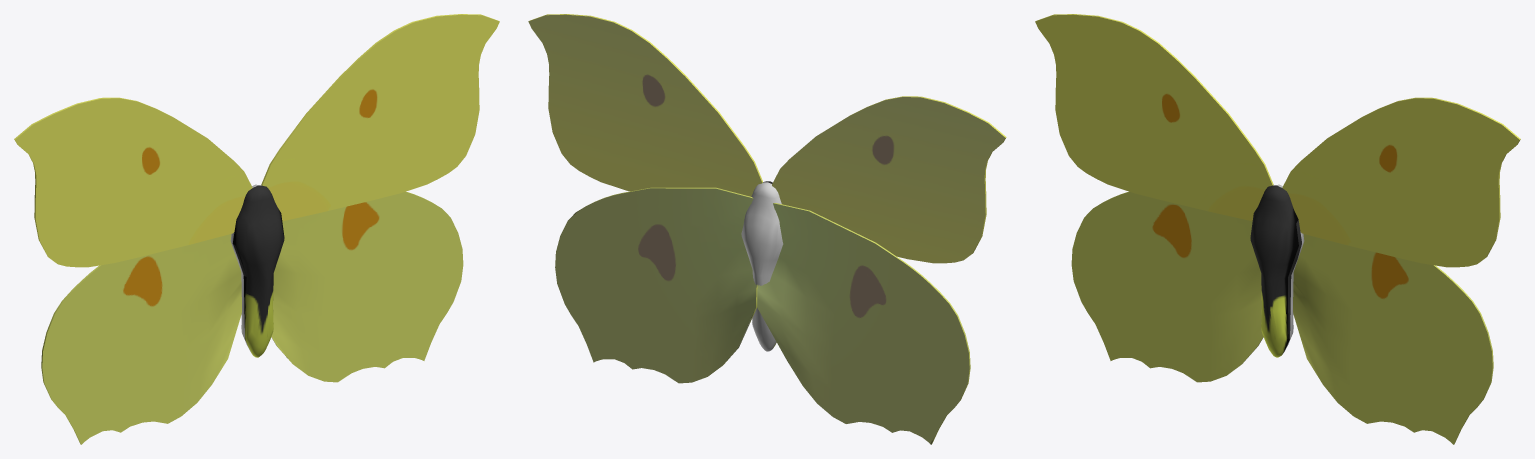
Rendered from brimstone.fbx.
3 renders of one model, left to right at view 1: azimuth 30°, elevation 25°; view 2: azimuth 150°, elevation 25°; view 3: azimuth 330°, elevation 25°, orthographic.
Visible parts, largest first — view 1: LeftBottomWing_LOD0, TopRightWing_LOD0, TopLeftWing_LOD0, RightBottomWing_LOD0, Cube_LOD0; view 2: LeftBottomWing_LOD0, RightBottomWing_LOD0, TopLeftWing_LOD0, TopRightWing_LOD0, Cube_LOD0; view 3: RightBottomWing_LOD0, TopLeftWing_LOD0, TopRightWing_LOD0, LeftBottomWing_LOD0, Cube_LOD0.
Boxes of the visible parts, x1,y1,x2,y2 form: LeftBottomWing_LOD0: (41,234,241,444); TopRightWing_LOD0: (261,14,499,221); TopLeftWing_LOD0: (14,97,252,267); RightBottomWing_LOD0: (271,191,463,382); Cube_LOD0: (230,184,284,357); LeftBottomWing_LOD0: (757,203,970,444); RightBottomWing_LOD0: (555,187,757,383); TopLeftWing_LOD0: (772,96,1006,263); TopRightWing_LOD0: (528,14,762,196); Cube_LOD0: (741,181,783,351); RightBottomWing_LOD0: (1293,234,1493,444); TopLeftWing_LOD0: (1035,14,1273,221); TopRightWing_LOD0: (1282,97,1520,267); LeftBottomWing_LOD0: (1071,191,1263,382); Cube_LOD0: (1250,184,1304,357).
Size of what is drawn, in the model's own units: 285 by 194 by 24.95.
